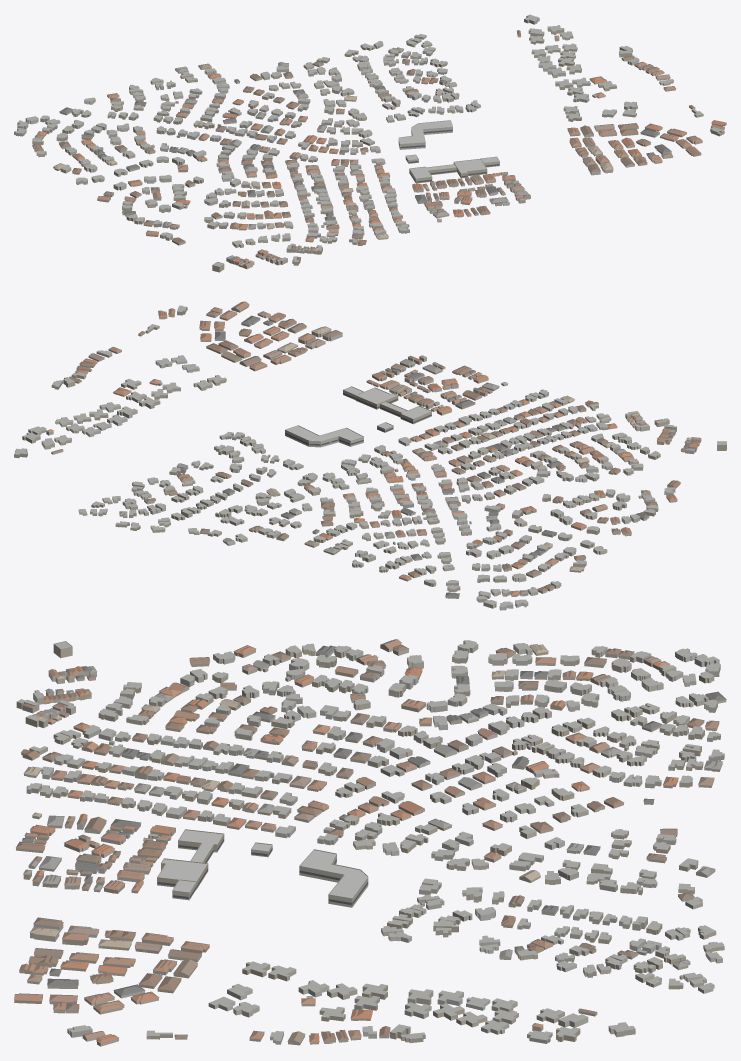
The model's file is buildings_r1_c7.glb.
The picture shows the model from 3 angles, top to bottom: view 1: azimuth 30°, elevation 25°; view 2: azimuth 150°, elevation 25°; view 3: azimuth 270°, elevation 25°; orthographic projection. The views are drawn at different scales.
Visible parts, largest first — view 1: buildings_r1_c7; view 2: buildings_r1_c7; view 3: buildings_r1_c7.
Part boxes in pixels (x1,y1,x2,y2): buildings_r1_c7: (14,14,726,272); buildings_r1_c7: (14,301,726,610); buildings_r1_c7: (14,639,726,1046).
Size of the model in its own units: 1149 by 59.67 by 814.
